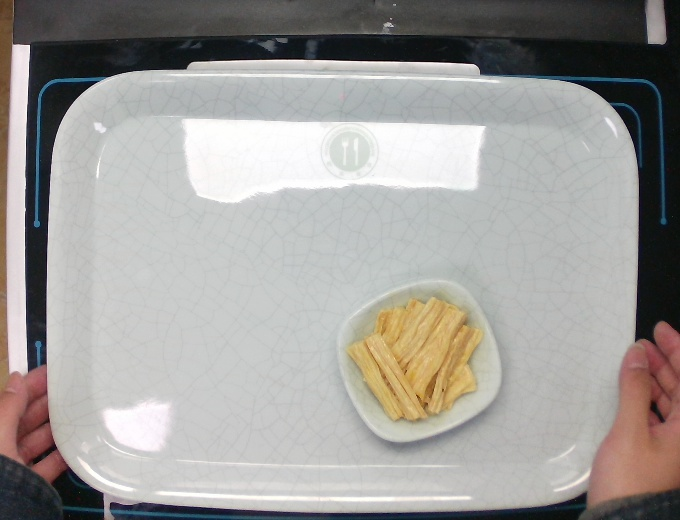JYsf-Si_Fang_Die: (335, 277, 505, 444)
